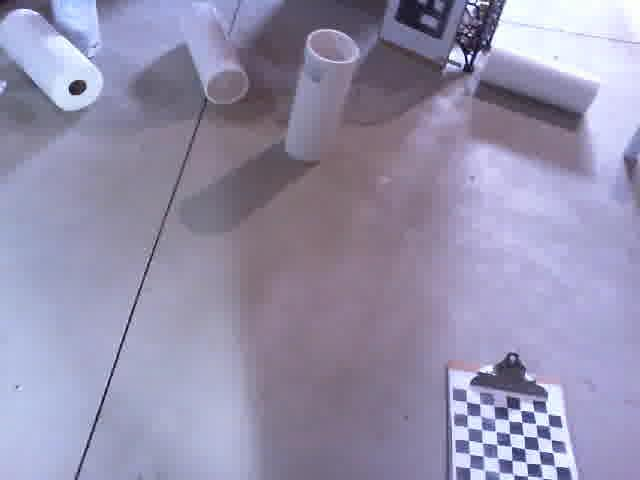coral: (281, 22, 364, 167), (477, 38, 605, 118), (173, 0, 253, 108)
